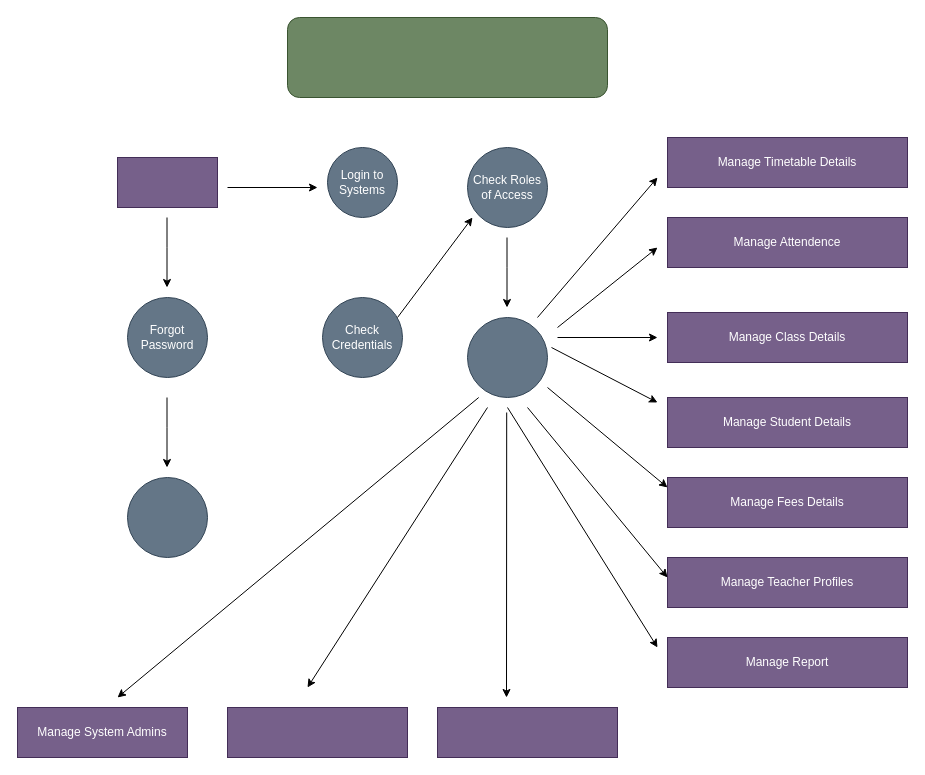
This 925x775 diagram has some shape labels left out. Each missing label, with the centre of its shape:
"Admin" belongs at [167,182].
"Manage Modules" belongs at [507,357].
"Manage Roles of User" belongs at [317,732].
"Manage User Permission" belongs at [527,732].
"Send Email to User" belongs at [167,517].
"Student Information System" belongs at [447,57].
